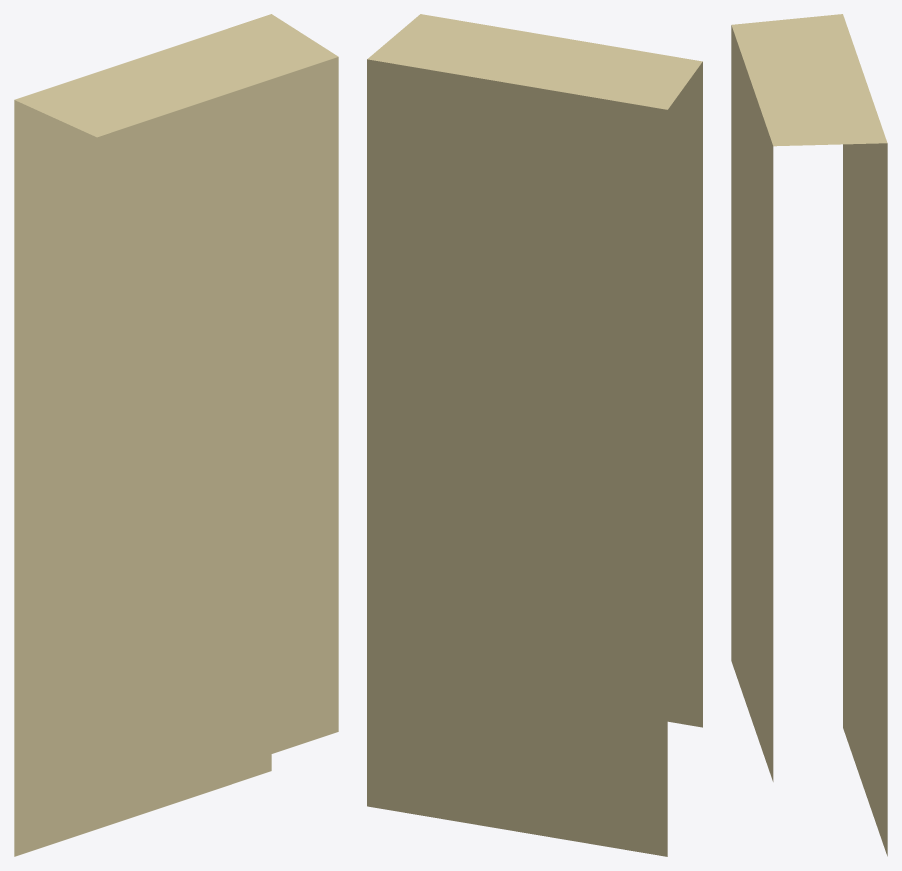
Rendered from wall19.fbx.
3 views of the same model, side by side, from view 1: azimuth 30°, elevation 25°; view 2: azimuth 150°, elevation 25°; view 3: azimuth 270°, elevation 25° (orthographic). The views are drawn at different scales.
Parts seen in each view (by area): view 1: duvar.018; view 2: duvar.018; view 3: duvar.018.
Part boxes in pixels (x1,y1,x2,y2): duvar.018: (14, 14, 338, 856); duvar.018: (367, 14, 702, 856); duvar.018: (731, 14, 887, 856).
Size of the model in its own units: 17.88 by 44.99 by 8.92.
